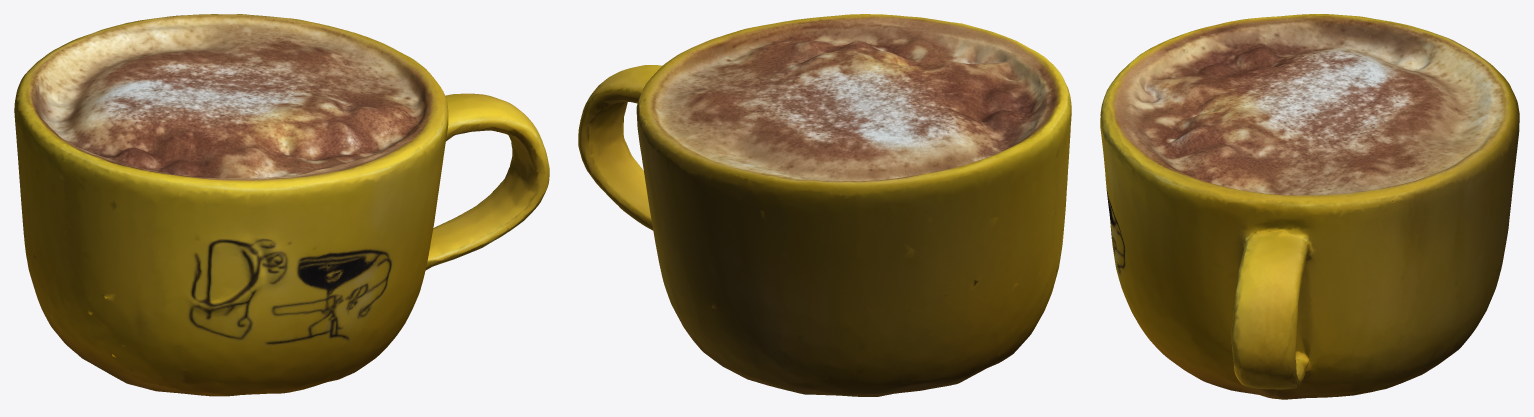
The model's file is capuchino.glb.
The picture shows the model from 3 angles, left to right: view 1: azimuth 30°, elevation 25°; view 2: azimuth 150°, elevation 25°; view 3: azimuth 270°, elevation 25°; orthographic projection. The views are drawn at different scales.
Visible parts, largest first — view 1: model; view 2: model; view 3: model.
Boxes of the visible parts, x1,y1,x2,y2 form: model: (14,14,549,396); model: (578,14,1071,396); model: (1100,14,1519,399).
Bounding box in the file's own units: 0.1841 × 0.09 × 0.1441.
1 material, 1 textured.
